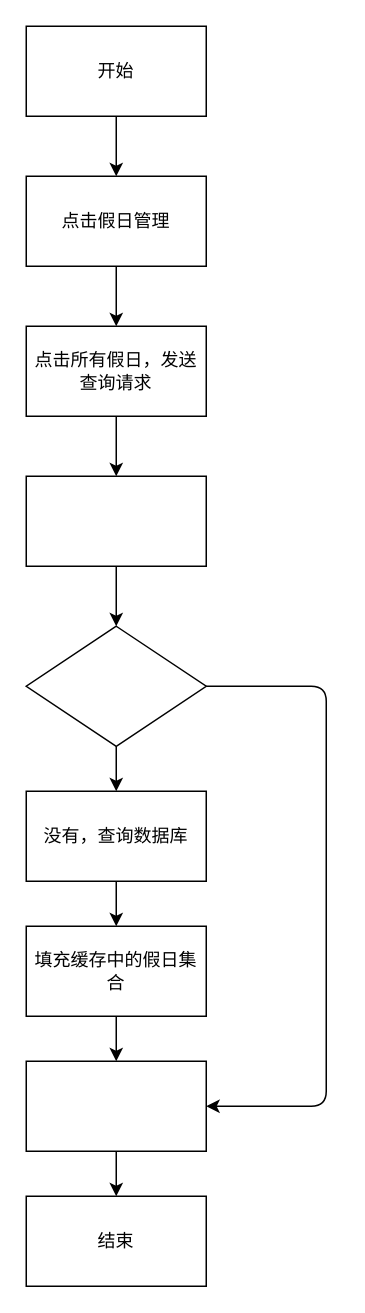
The diagram is 365 pixels wide and 1313 high, and some of its shapes have lost their labels. The box of each missing label's shape, as (x1, y1, x2, y2) in pixels:
后端服务接收查询请求: (25, 475, 206, 566)
有，返回给前端展示: (25, 1060, 206, 1151)
查询缓存中是否有假日集合: (25, 625, 206, 746)
